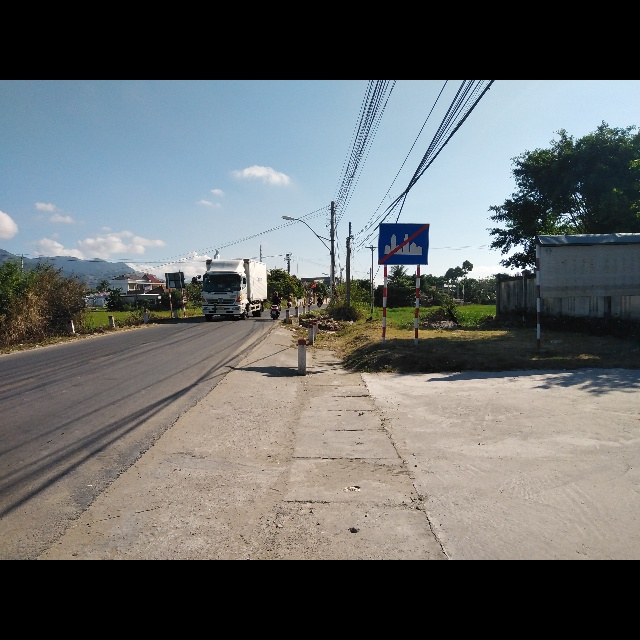Hết khu đông dân cư: (378, 221, 431, 264)
